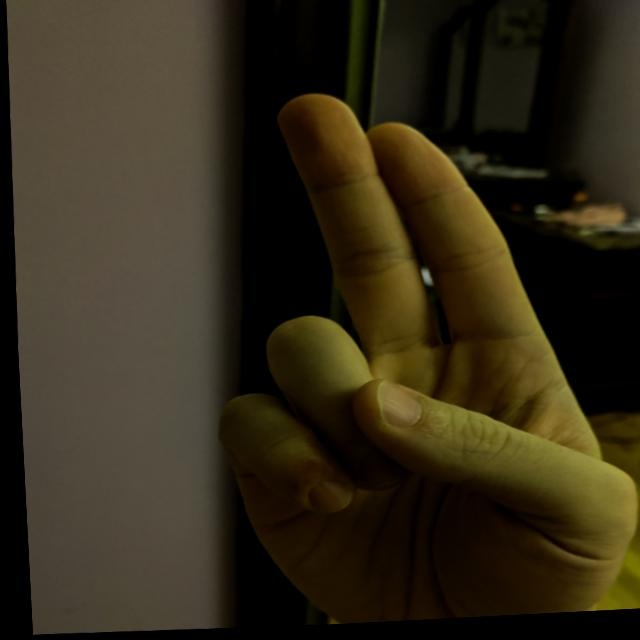U: (184, 75, 639, 632)
